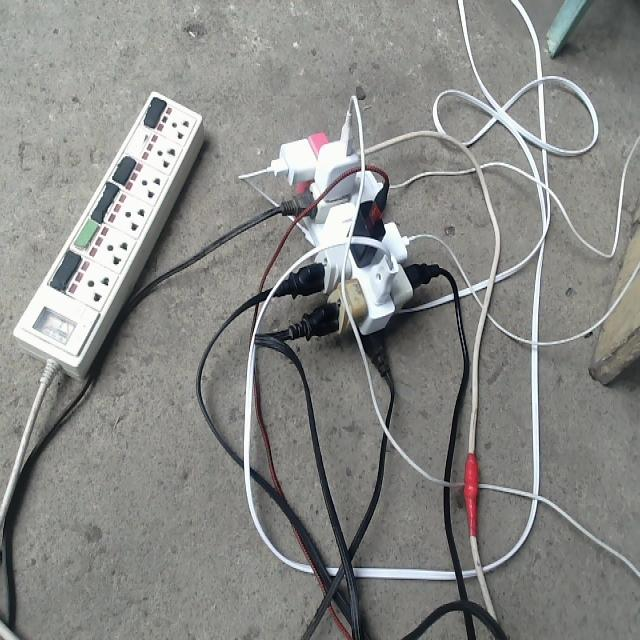-: (265, 103, 439, 380)
